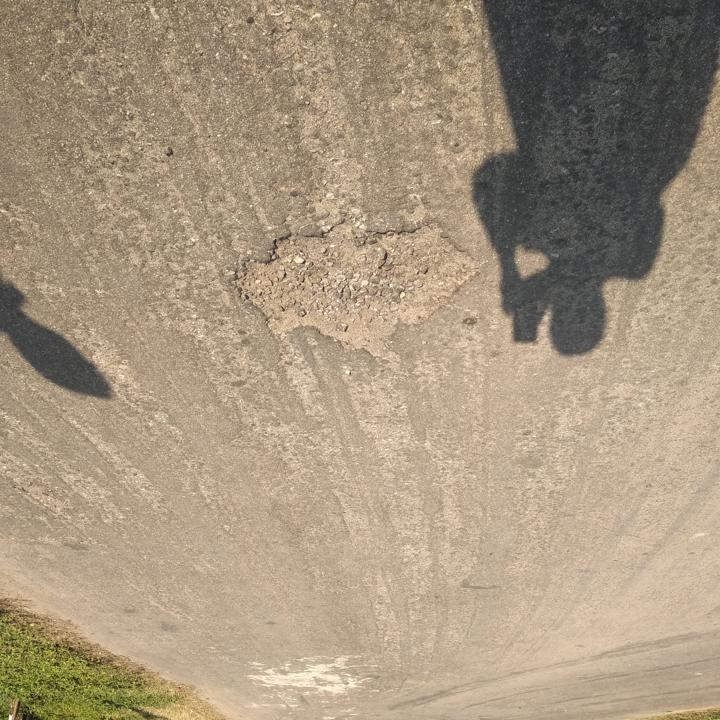pothole: (228, 216, 488, 364)
